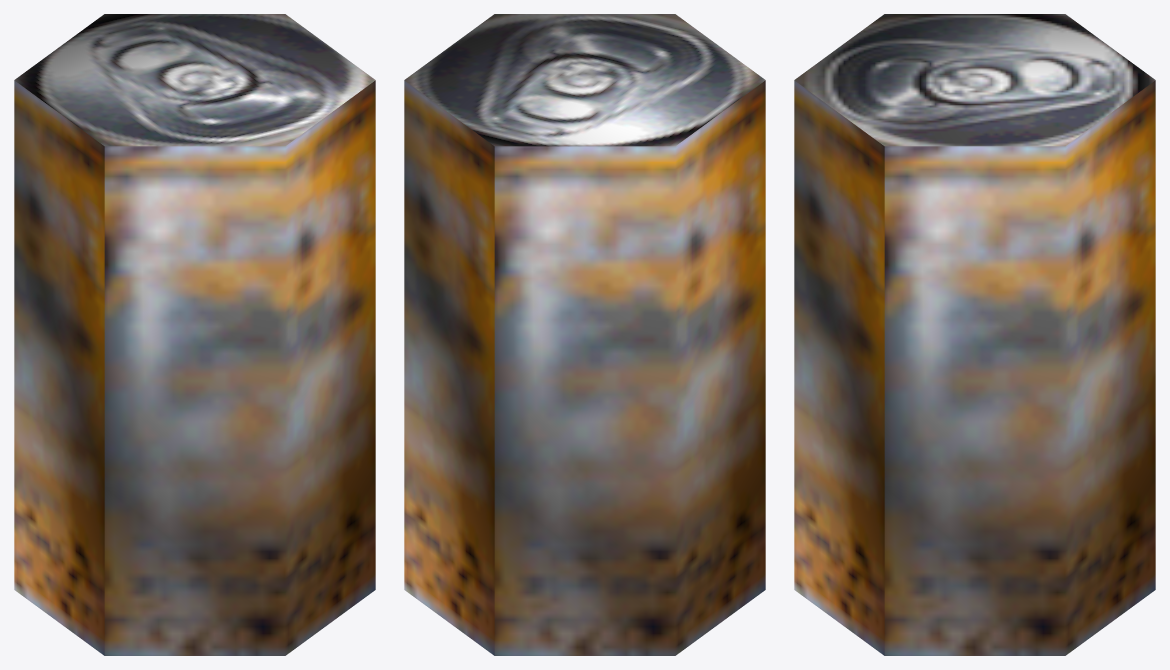
Rendered from can_8.glb.
3 renders of one model, left to right at view 1: azimuth 30°, elevation 25°; view 2: azimuth 150°, elevation 25°; view 3: azimuth 270°, elevation 25°, orthographic.
Visible parts, largest first — view 1: Can_8; view 2: Can_8; view 3: Can_8.
Boxes of the visible parts, x1=… form: Can_8: x1=14, y1=14, x2=375, y2=655; Can_8: x1=404, y1=14, x2=765, y2=655; Can_8: x1=794, y1=14, x2=1155, y2=655.
Bounding box in the file's own units: 0.1956 × 0.3512 × 0.2259.
1 material, 1 textured.
